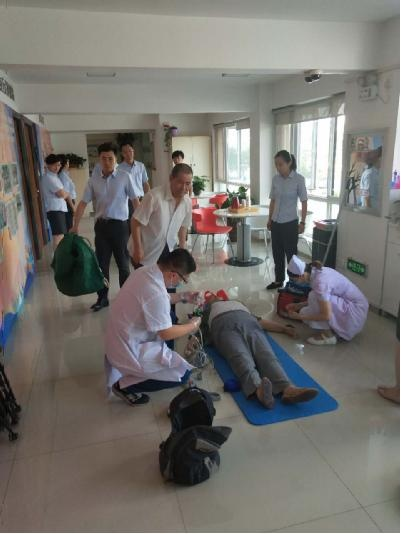falling: (183, 276, 313, 415)
